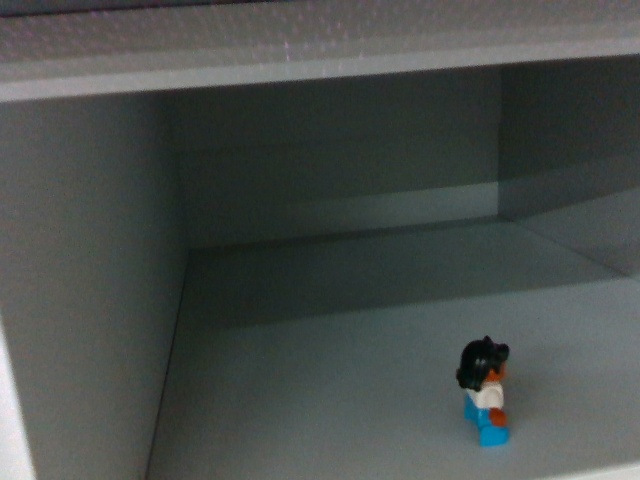people: (451, 328, 518, 452)
